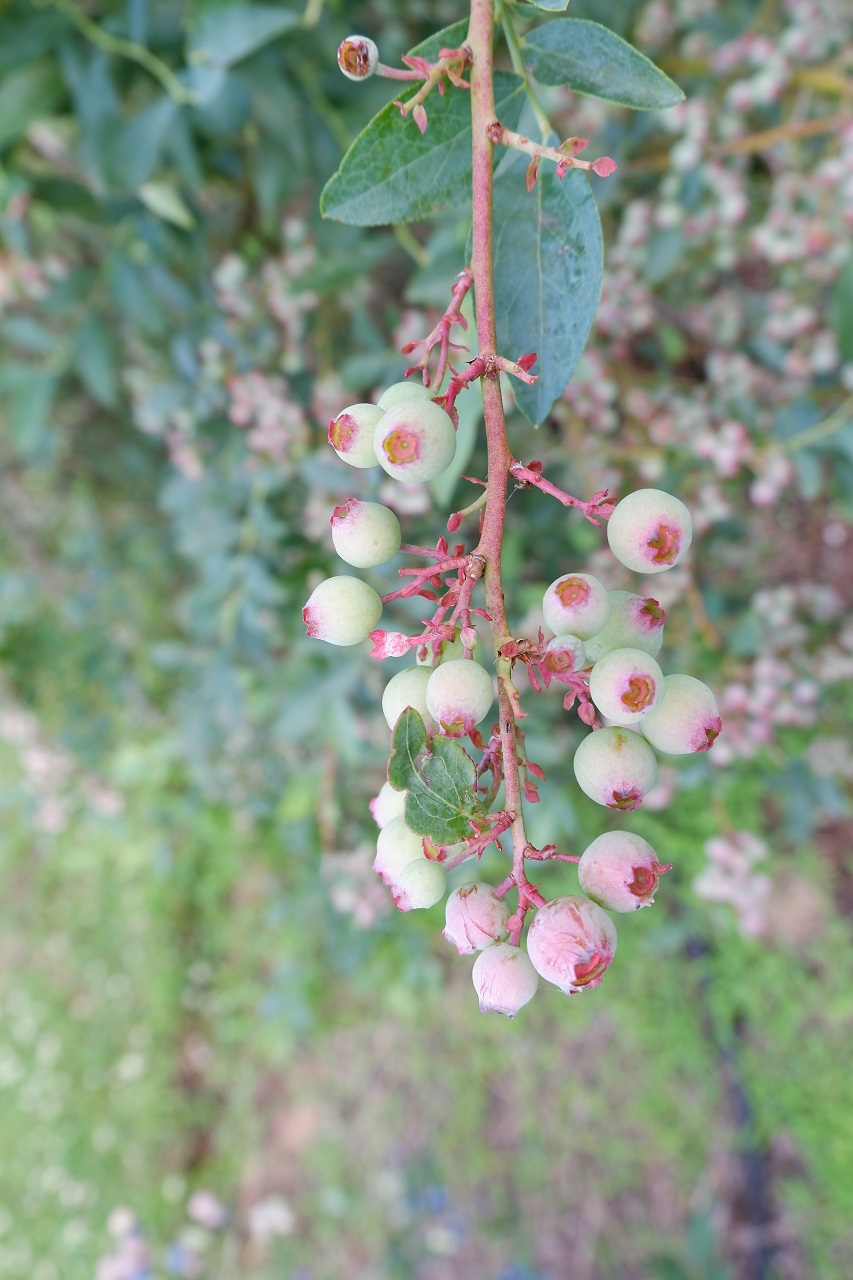Immature: (527, 894, 618, 996), (578, 829, 674, 913), (607, 488, 693, 574), (373, 398, 457, 483), (574, 726, 657, 811), (639, 673, 722, 754), (582, 590, 665, 662), (590, 648, 665, 723), (303, 575, 383, 645), (472, 941, 539, 1022), (427, 659, 495, 738), (442, 880, 513, 955), (329, 498, 402, 568), (542, 573, 611, 642), (383, 665, 439, 737), (372, 813, 426, 886), (327, 403, 385, 468), (416, 621, 486, 667), (390, 858, 447, 912), (377, 381, 446, 416), (540, 635, 586, 678), (368, 779, 408, 828), (339, 35, 379, 81), (423, 835, 478, 863), (600, 710, 644, 738)
